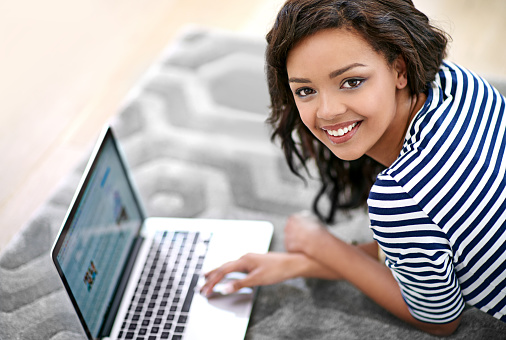deitado: (190, 0, 506, 340)
